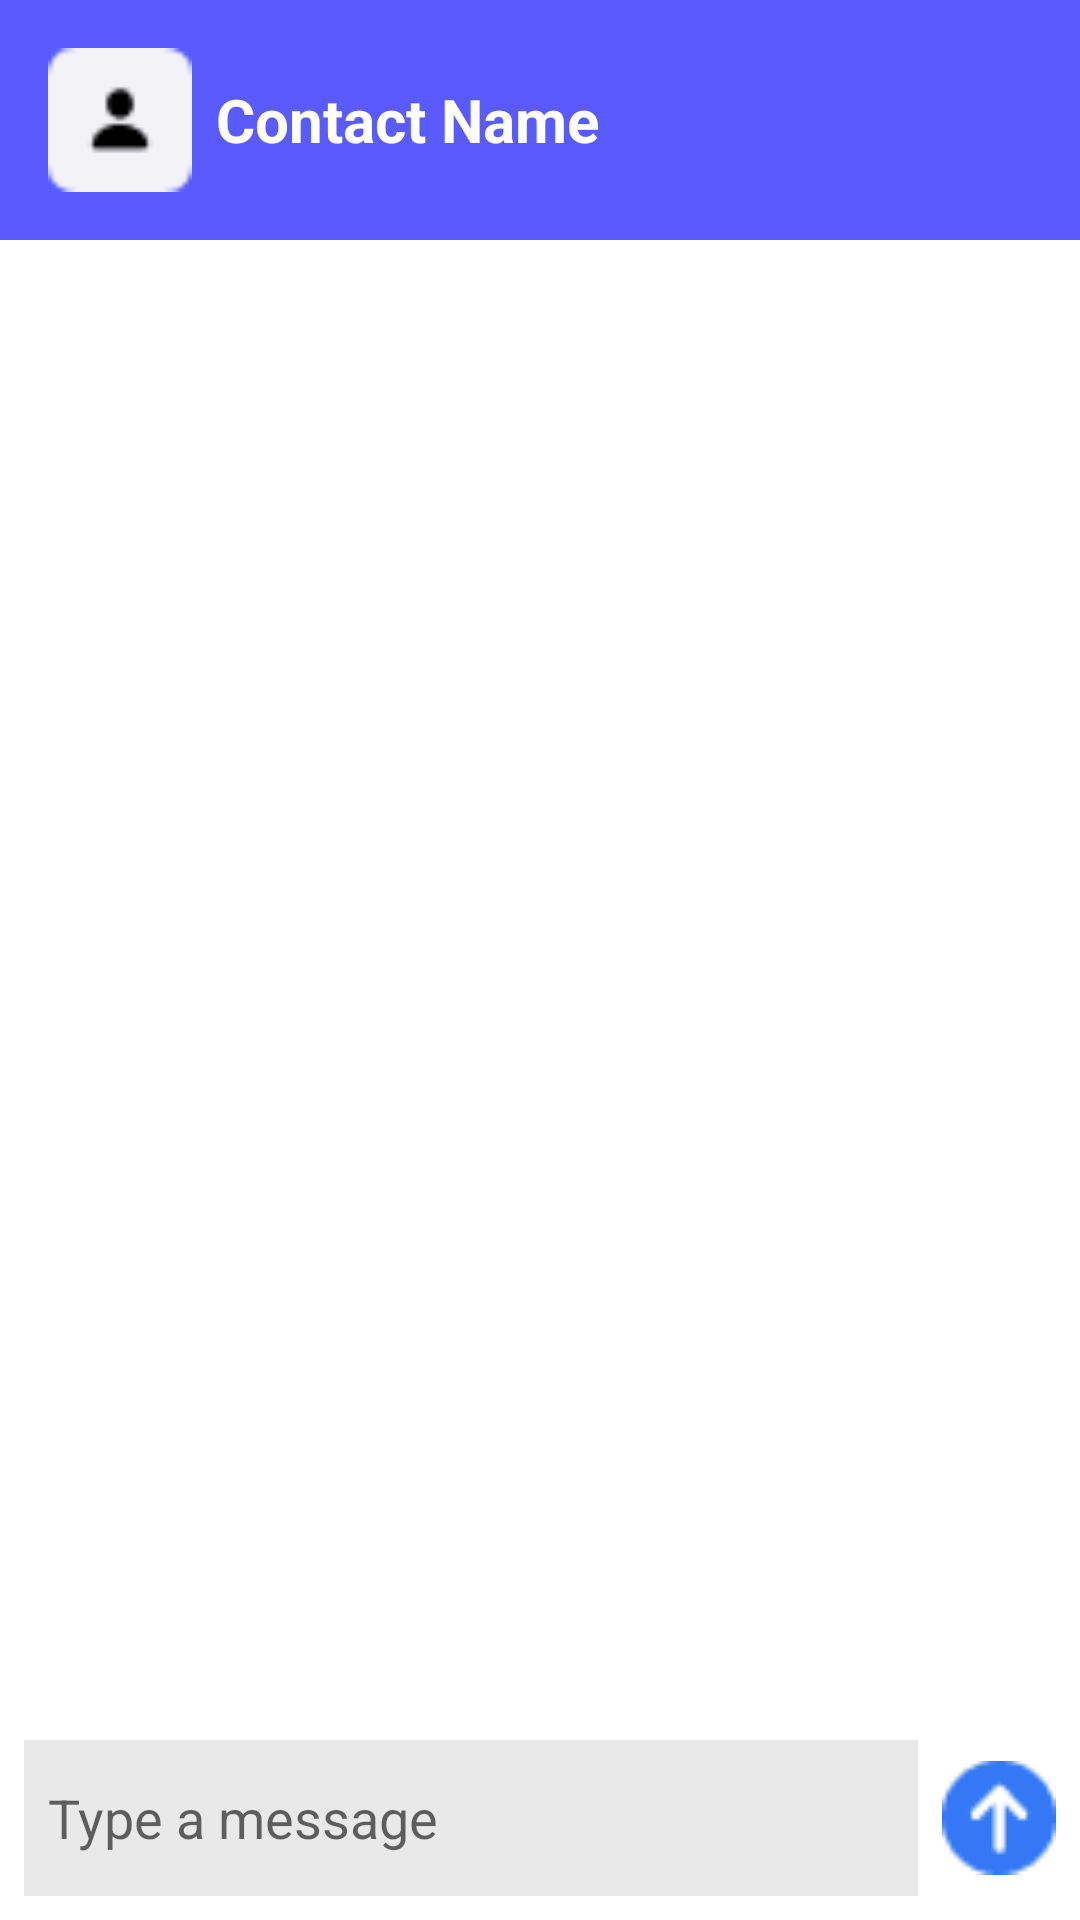

Named icons in this screenshot (1080 x 1920) and their bounding boxes, detection(x1, y1, x2, y2):
Send Message: detection(942, 1761, 1056, 1875)
